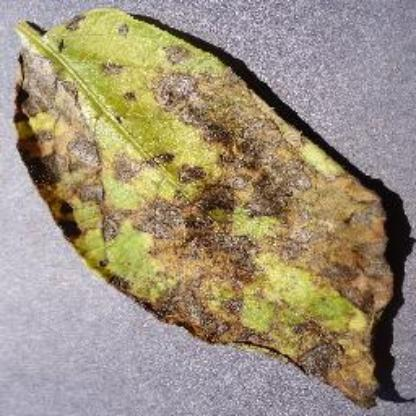Early-Blight: (10, 6, 406, 408)
